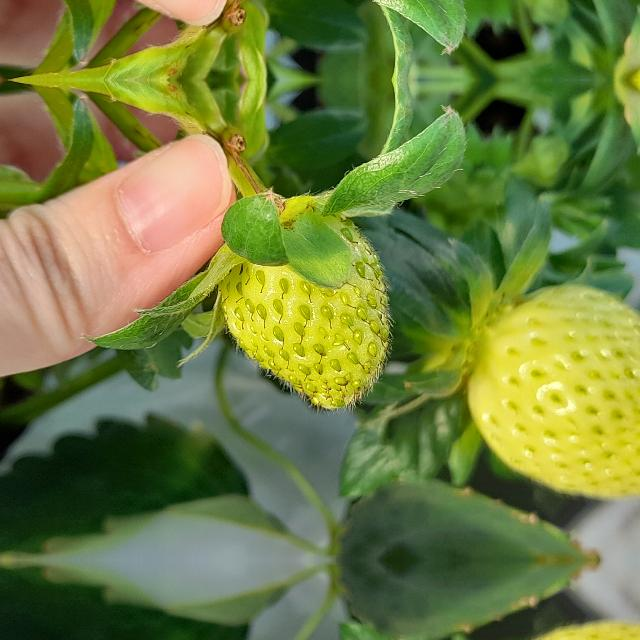Health_25: (456, 286, 640, 496), (220, 216, 396, 412)
